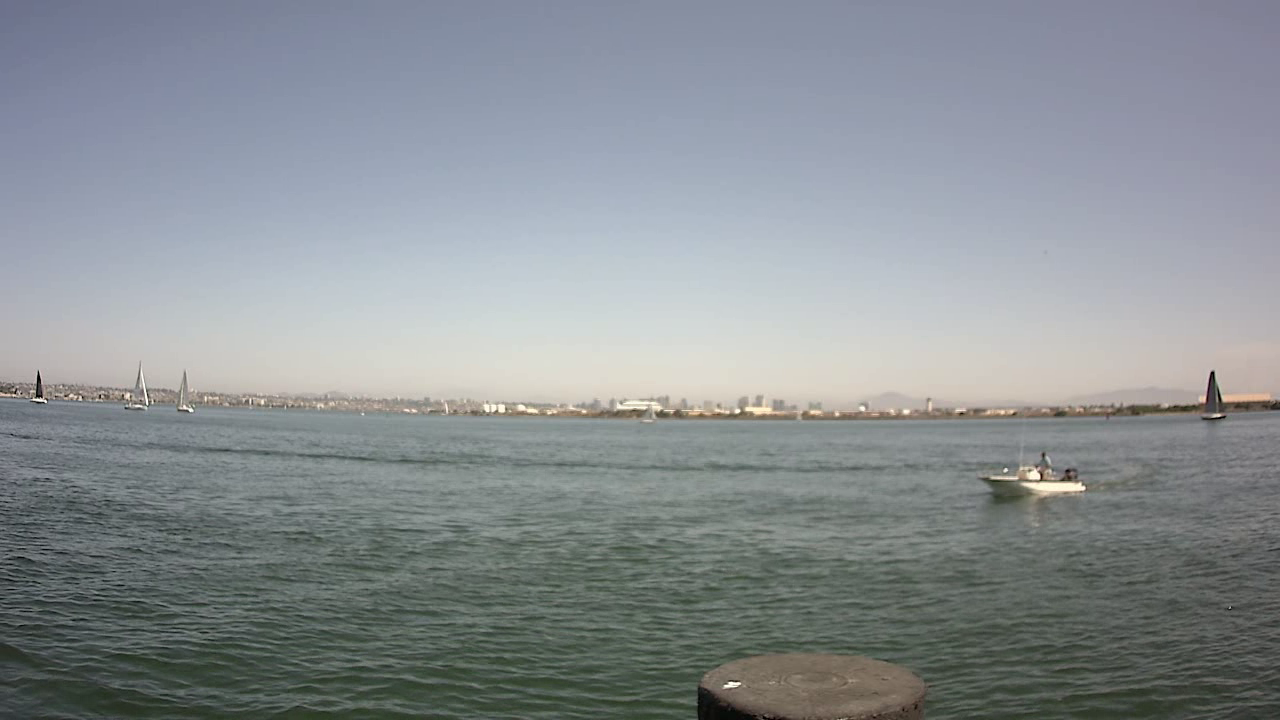target: (978, 444, 1093, 503)
